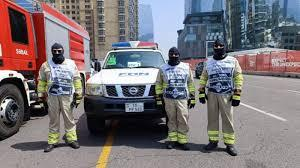Fire-engine: (0, 4, 90, 150)
